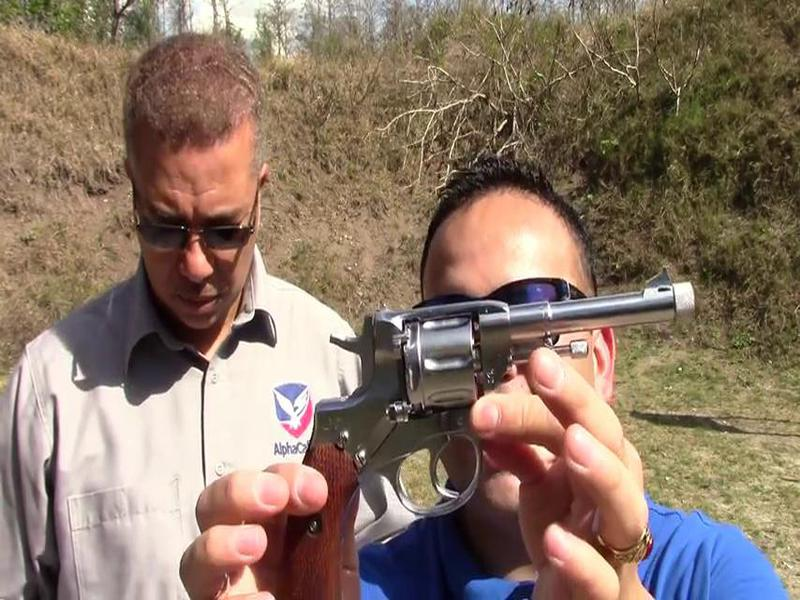Revolver: (290, 268, 708, 514)
